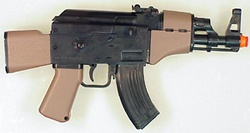rifle: (5, 5, 247, 126)
